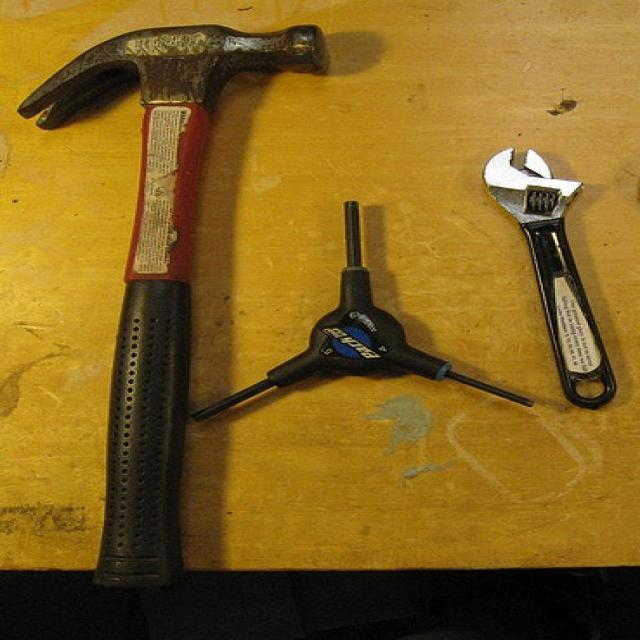hammer: (15, 11, 342, 602)
wrench: (476, 140, 625, 414)
